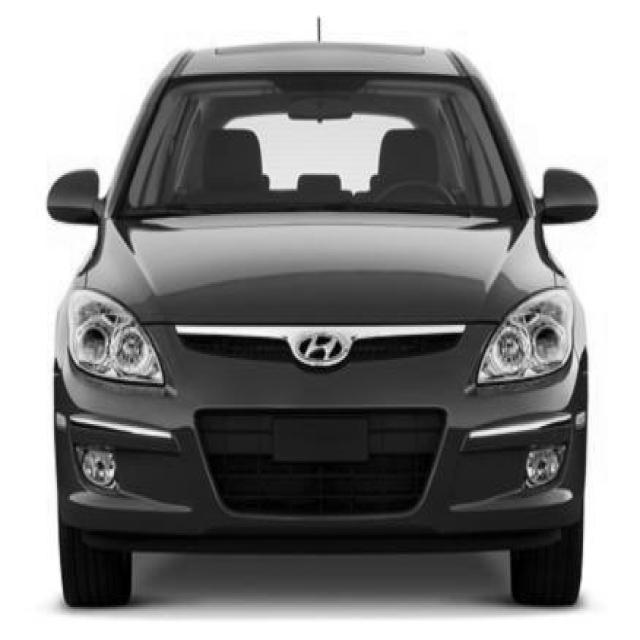car: (45, 21, 598, 609)
